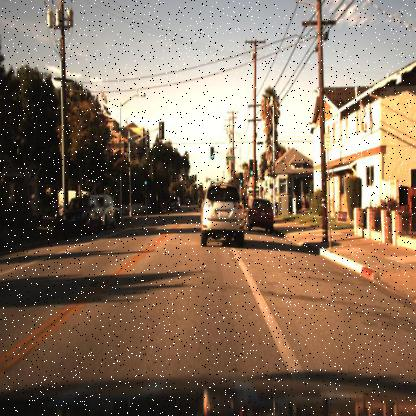car: (194, 176, 246, 251), (55, 189, 99, 239), (60, 191, 100, 236), (243, 189, 280, 233), (57, 182, 85, 206), (102, 194, 117, 232), (168, 193, 182, 215)
trafficLight-Green: (248, 158, 257, 178), (208, 150, 216, 164), (209, 144, 215, 160), (238, 175, 246, 186), (238, 176, 244, 188), (143, 176, 148, 188), (143, 180, 148, 192), (248, 168, 254, 178)
